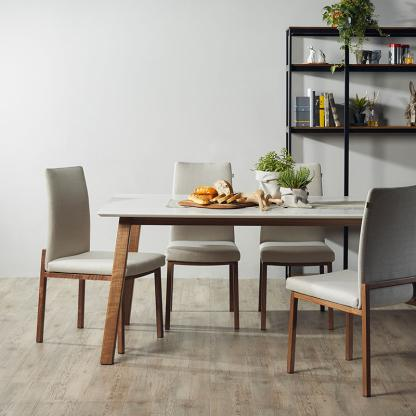Dining Table: (29, 160, 416, 400)
Wooden floor: (0, 277, 416, 416)
